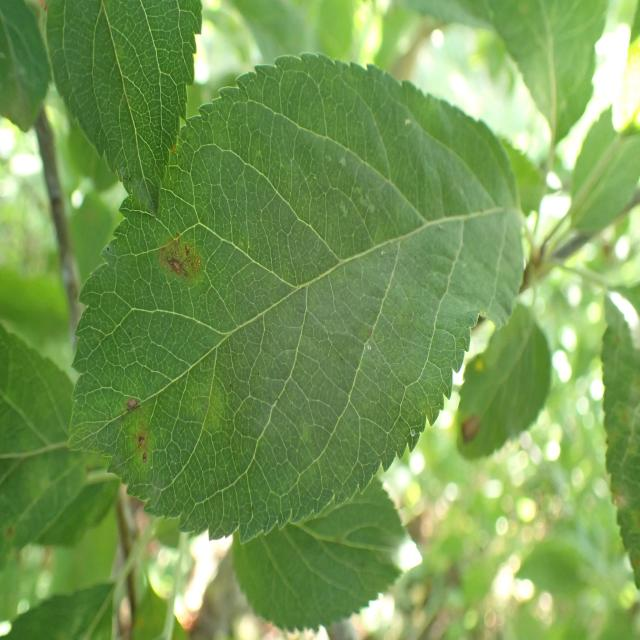scab: (104, 198, 258, 528)
